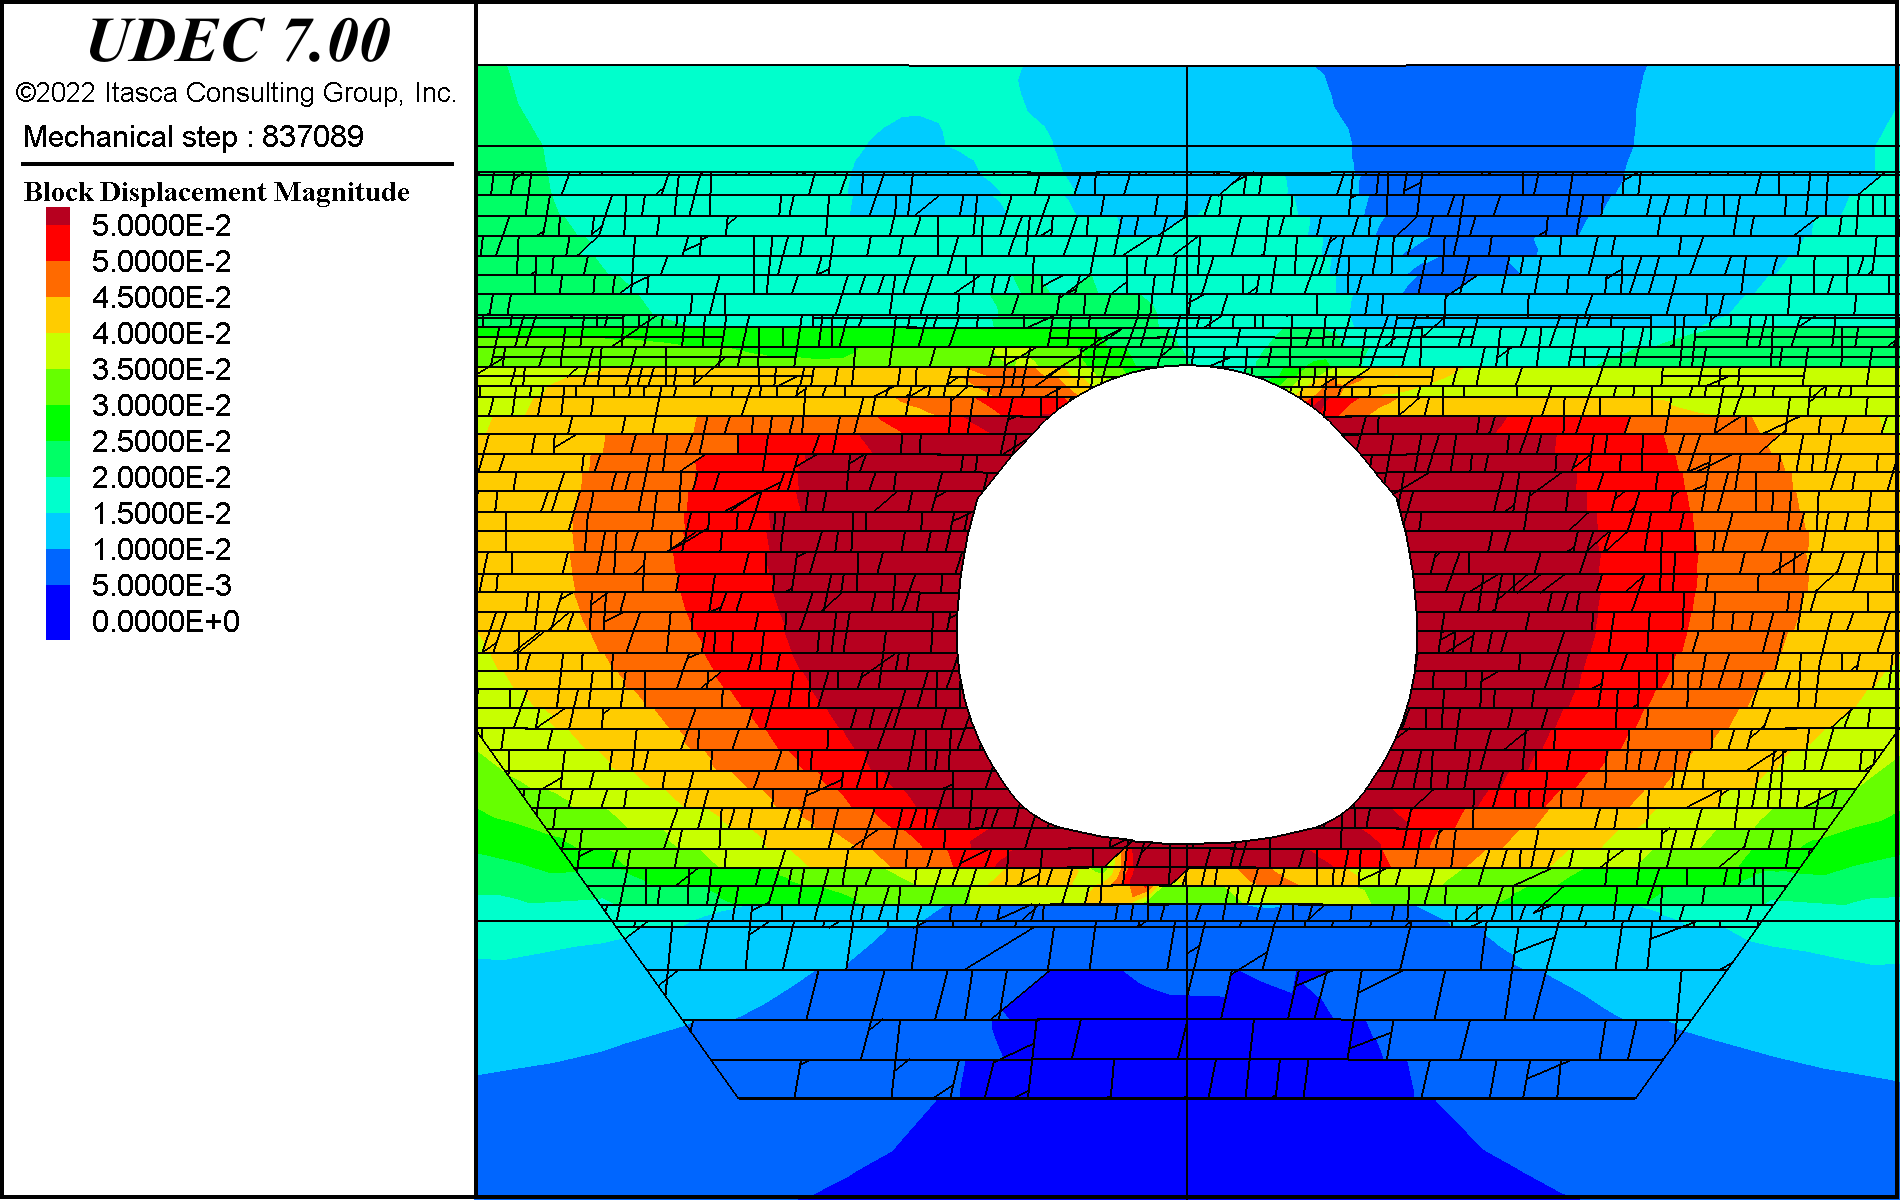crown: (1148, 333, 1231, 361)
label: (8, 8, 474, 1196)
tunnel-opening: (958, 364, 1415, 849)
